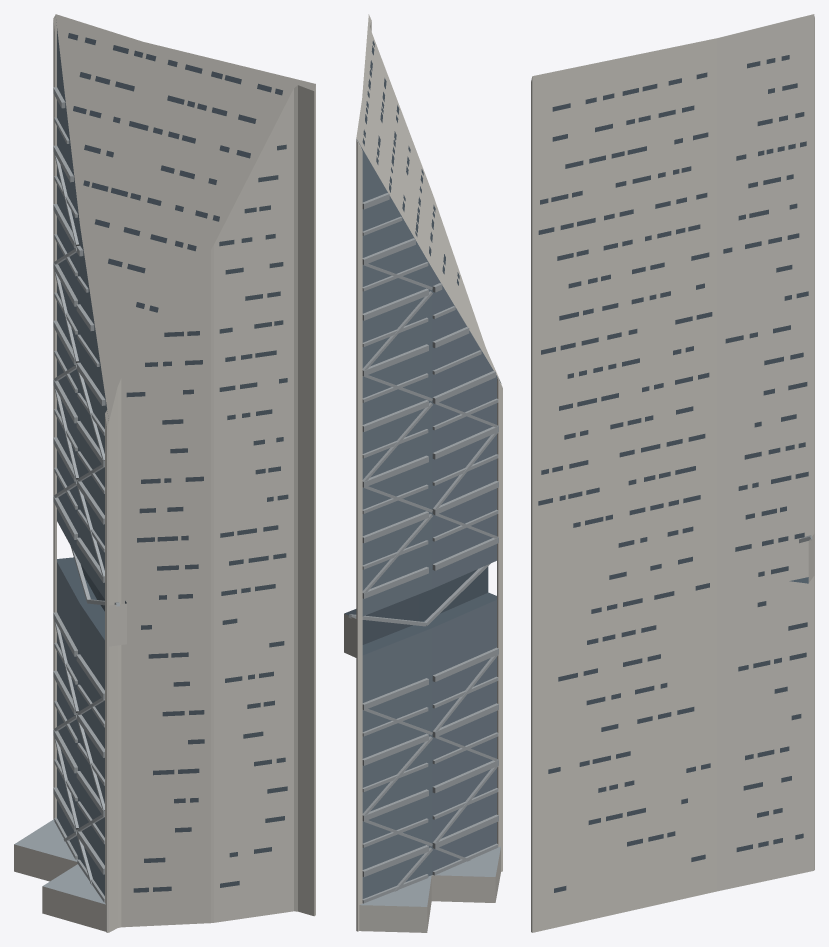
File: mexico-city-torre-reforma.glb
3 renders of one model, left to right at view 1: azimuth 30°, elevation 25°; view 2: azimuth 150°, elevation 25°; view 3: azimuth 270°, elevation 25°, orthographic. The views are drawn at different scales.
Visible parts, largest first — view 1: Torre Reforma; view 2: Torre Reforma; view 3: Torre Reforma.
Boxes of the visible parts, x1=… form: Torre Reforma: x1=14, y1=14, x2=315, y2=932; Torre Reforma: x1=344, y1=14, x2=502, y2=932; Torre Reforma: x1=531, y1=14, x2=814, y2=932.
Size of the model in its own units: 62.41 by 244 by 73.23.
